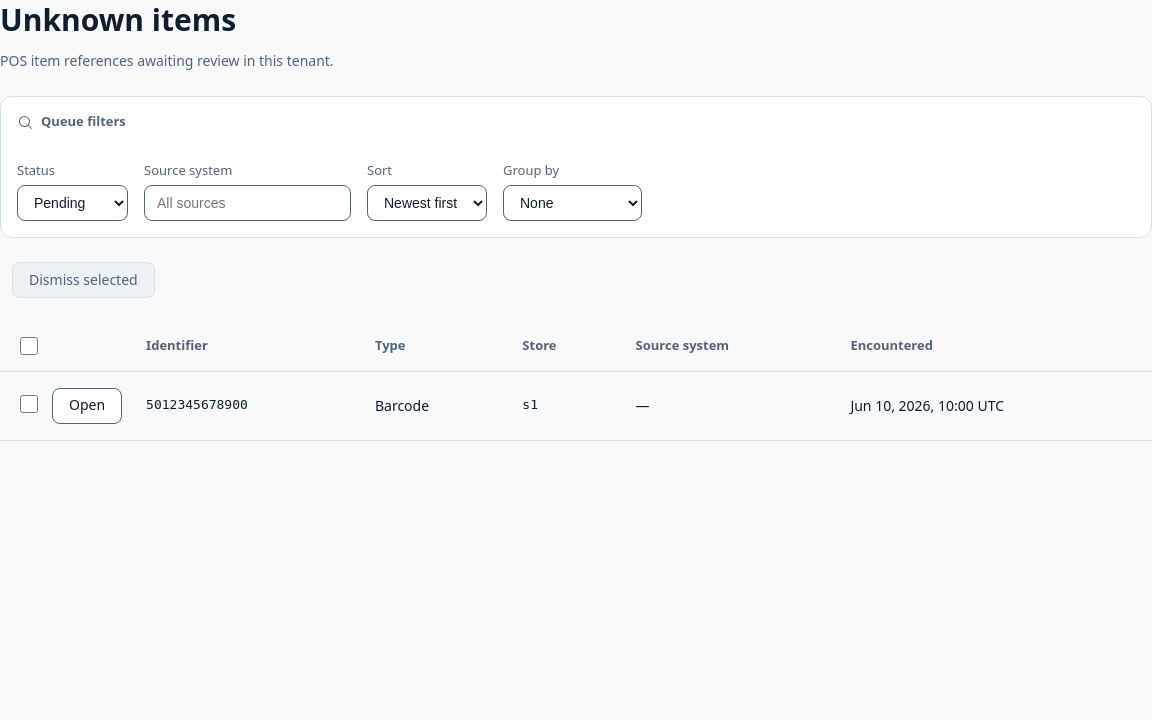
Test: the link step › Cancel returns to the actions without a request
Click the button with aria-label "Open 5012345678900" at (87, 406), box left=52, top=388, right=122, bottom=424
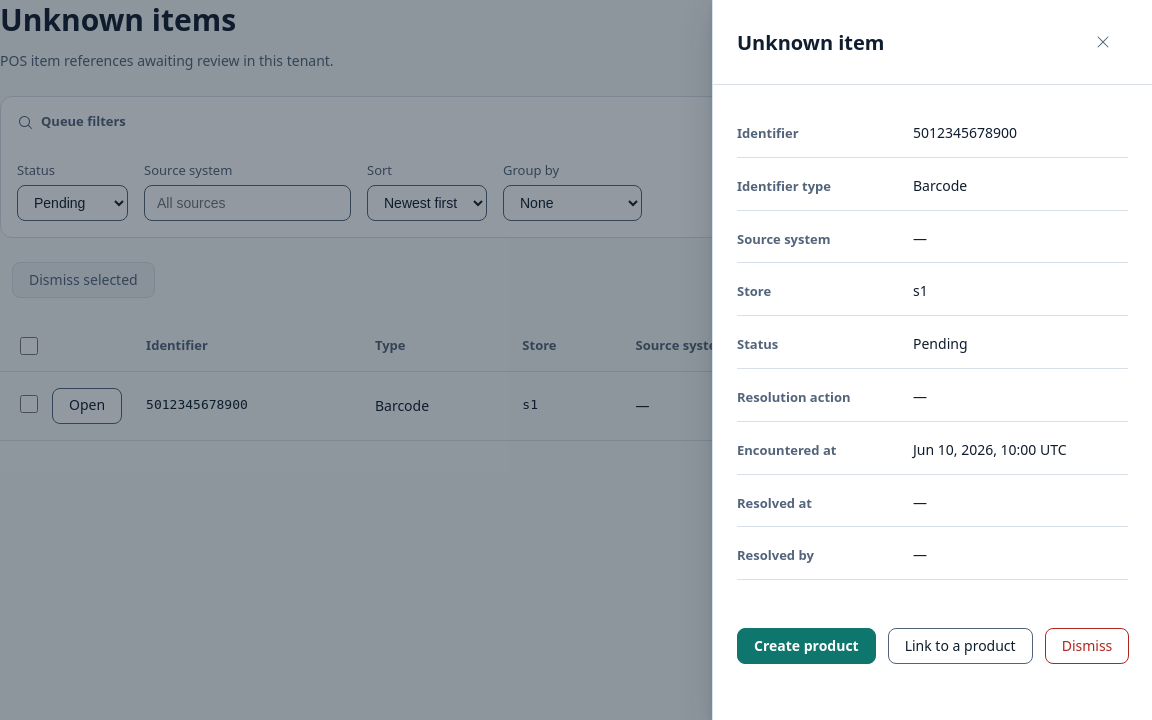
Expected: the dialog "Unknown item" shows "Identifier type", left=737, top=177, right=831, bottom=195
Click the button "Link to a product" at (960, 646), box left=888, top=628, right=1033, bottom=664
(page scrolled)
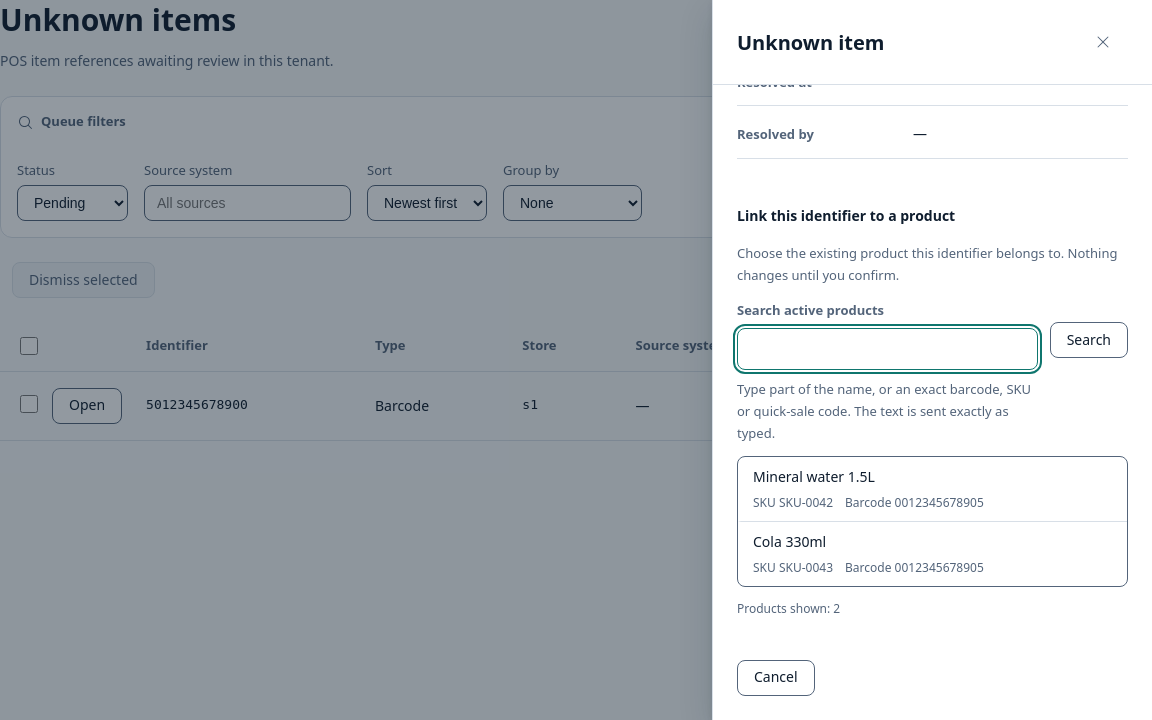
Expected: the list is shown, left=737, top=456, right=1128, bottom=587
Click the button "Cancel" at (776, 678), box left=737, top=660, right=815, bottom=696
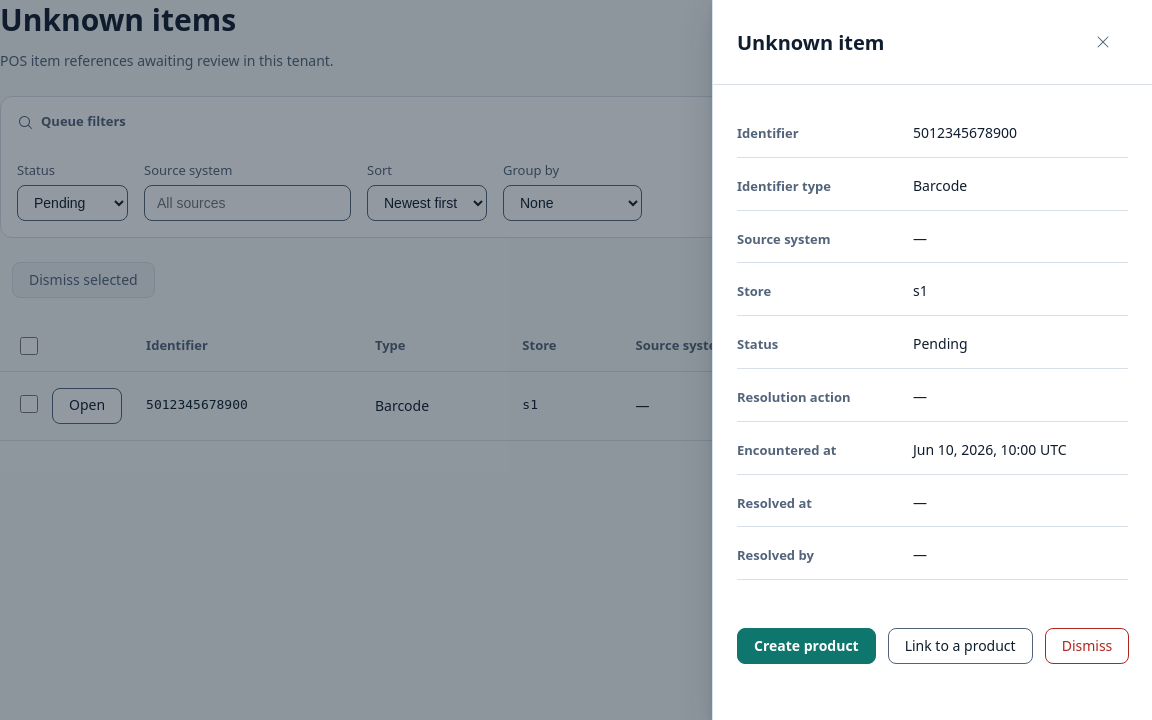
Expected: the button "Link to a product" is shown, left=888, top=628, right=1033, bottom=664
